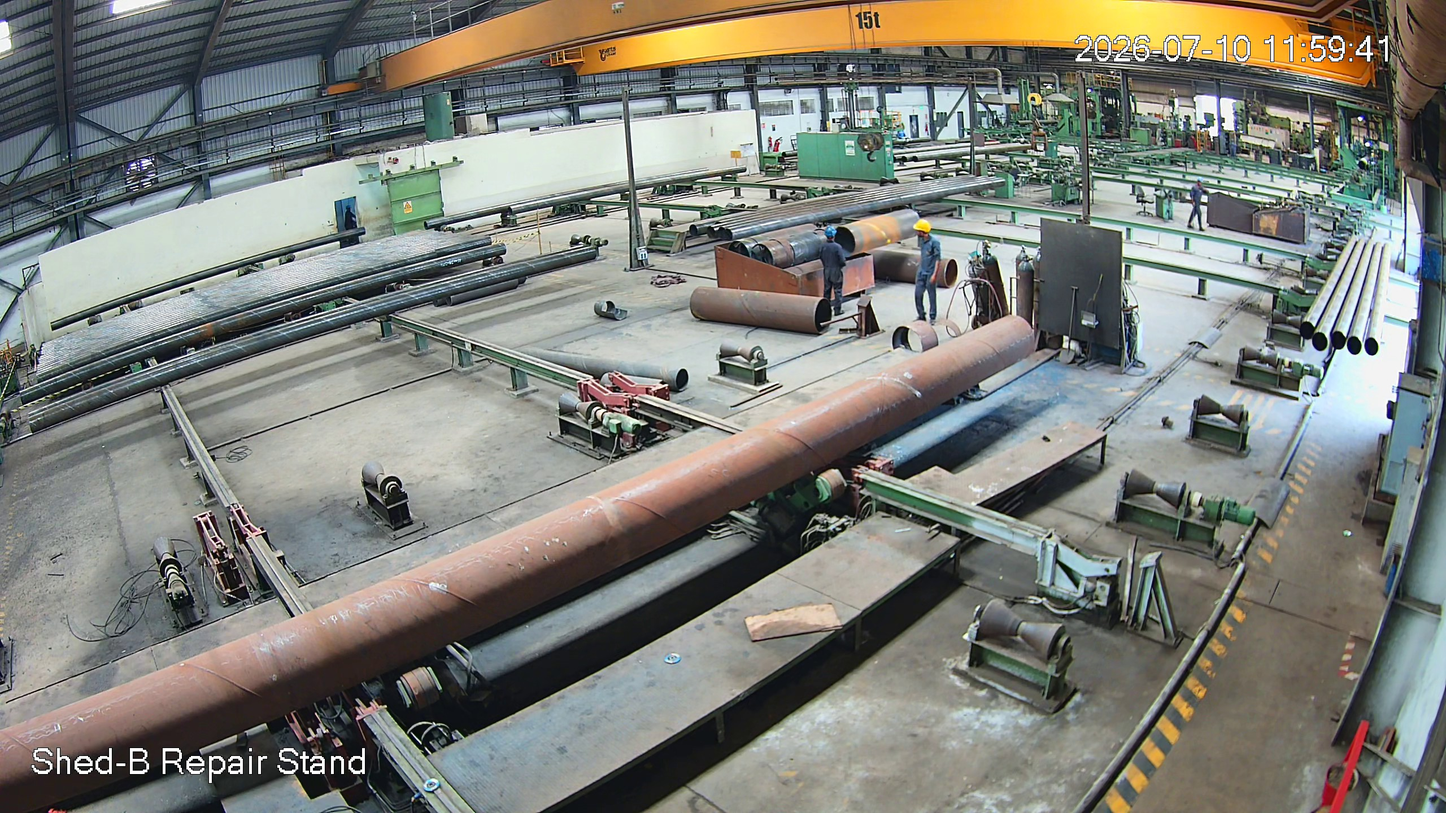Helmet: (912, 217, 939, 239), (822, 225, 841, 245)
Person: (909, 218, 942, 325), (818, 227, 848, 316)
